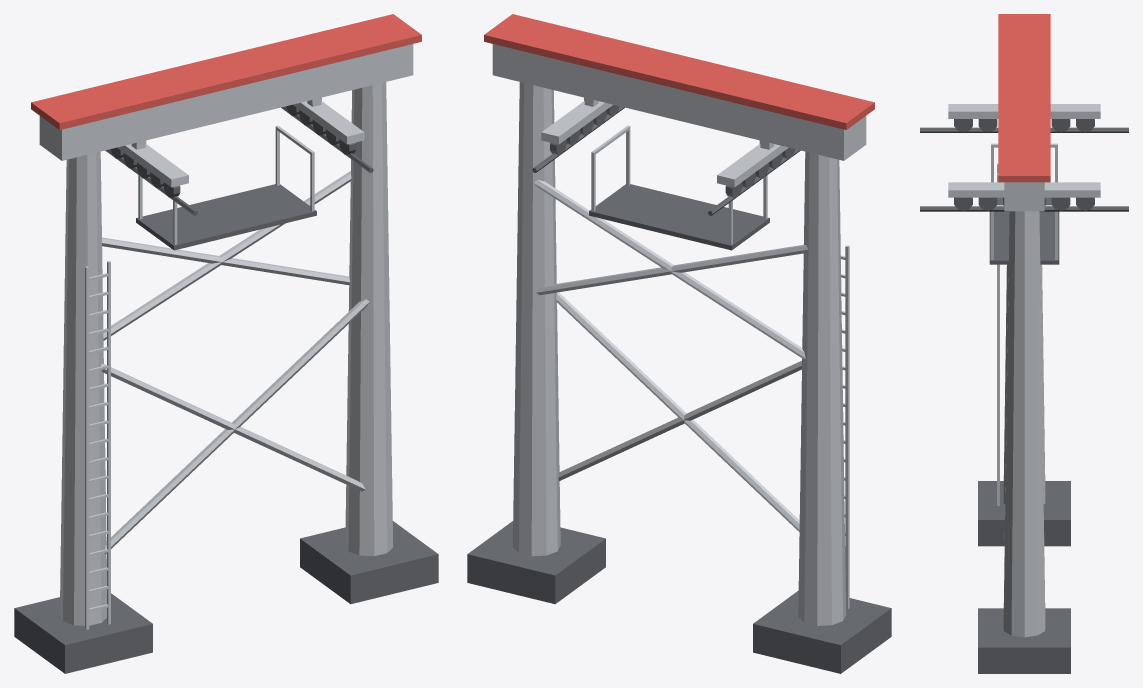
The model's file is ski-resort-and-snow-park-gondola-tower-fd01dcd7__25948.glb.
3 renders of one model, left to right at view 1: azimuth 30°, elevation 25°; view 2: azimuth 150°, elevation 25°; view 3: azimuth 270°, elevation 25°, orthographic. The views are drawn at different scales.
Visible parts, largest first — view 1: gondola-tower; view 2: gondola-tower; view 3: gondola-tower.
Boxes of the visible parts, x1,y1,x2,y2 form: gondola-tower: (14, 14, 438, 673); gondola-tower: (467, 14, 891, 673); gondola-tower: (920, 14, 1128, 673).
Bounding box in the file's own units: 6.8 × 9.42 × 3.6.
